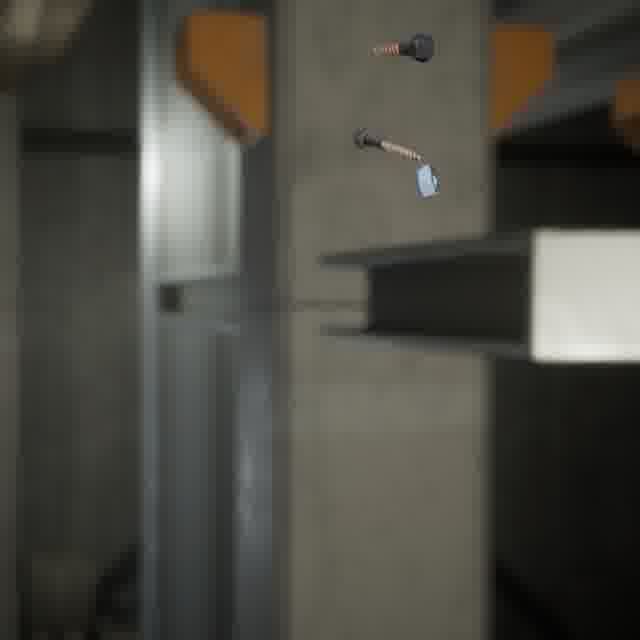bolt: (349, 121, 427, 165), (369, 28, 438, 66)
nut: (412, 160, 443, 201)
